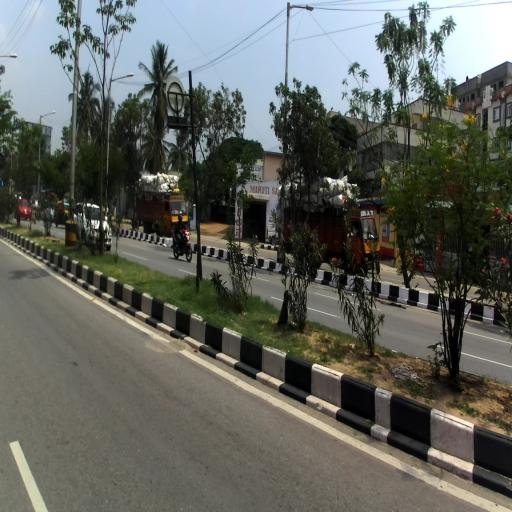street_light_0: (109, 72, 136, 86), (287, 4, 315, 14), (39, 110, 57, 120), (0, 54, 18, 59)
